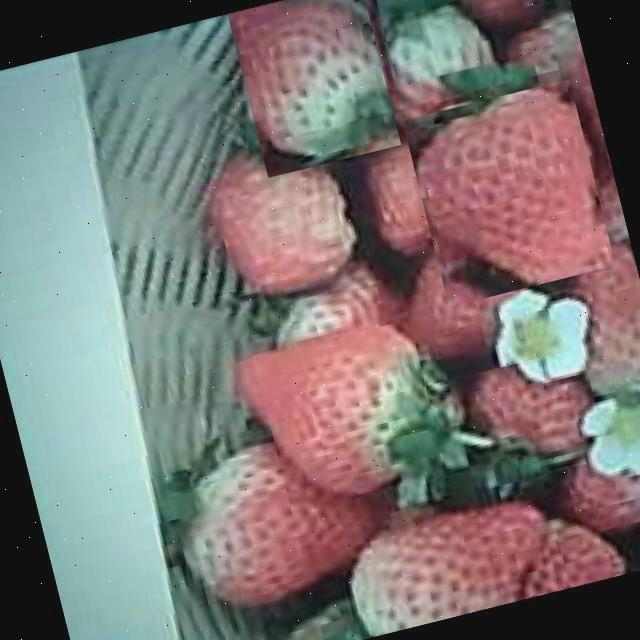ripe: (402, 78, 616, 306), (233, 311, 450, 513)
unripe: (340, 485, 550, 638), (227, 0, 401, 177)
